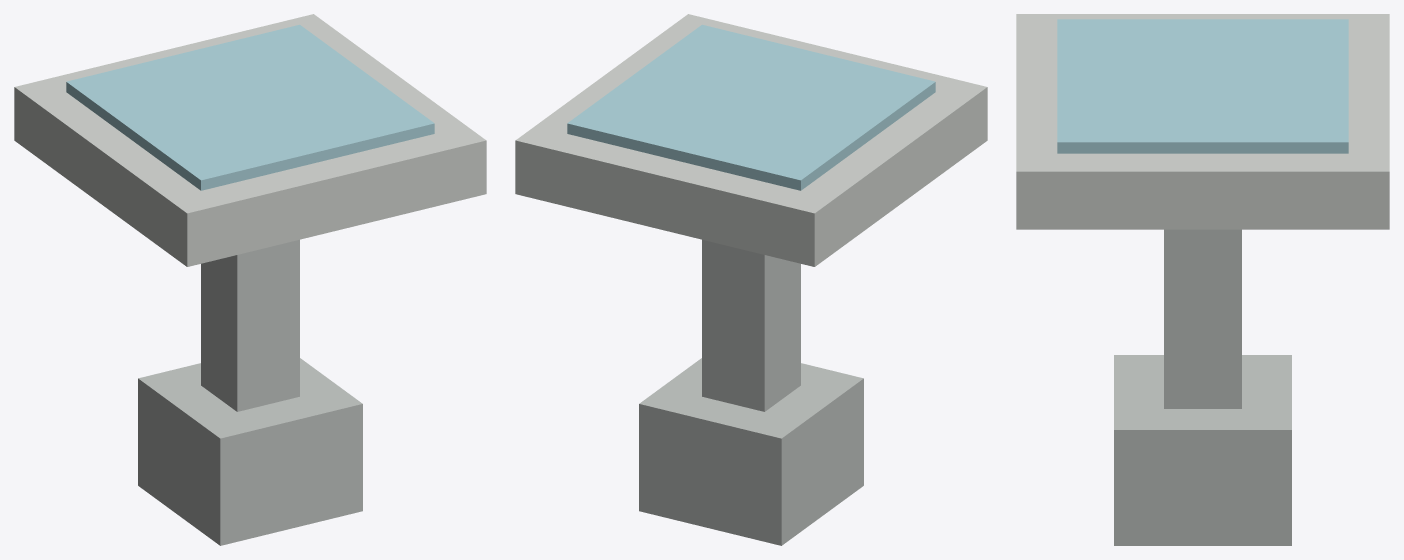
The model's file is birdbath.glb.
3 views of the same model, side by side, from view 1: azimuth 30°, elevation 25°; view 2: azimuth 150°, elevation 25°; view 3: azimuth 270°, elevation 25° (orthographic). The views are drawn at different scales.
Visible parts, largest first — view 1: bowl, water, base, stem; view 2: bowl, water, base, stem; view 3: bowl, water, base, stem.
Boxes of the visible parts, <box> form: bowl: <box>14,14,486,266</box>; water: <box>66,24,434,190</box>; base: <box>138,358,362,545</box>; stem: <box>201,239,299,411</box>; bowl: <box>515,14,987,266</box>; water: <box>567,24,935,190</box>; base: <box>639,358,863,545</box>; stem: <box>702,239,800,411</box>; bowl: <box>1016,14,1389,229</box>; water: <box>1057,19,1348,153</box>; base: <box>1114,355,1291,545</box>; stem: <box>1164,229,1241,408</box>.
Size of the model in its own units: 1.05 by 1.33 by 1.05.
